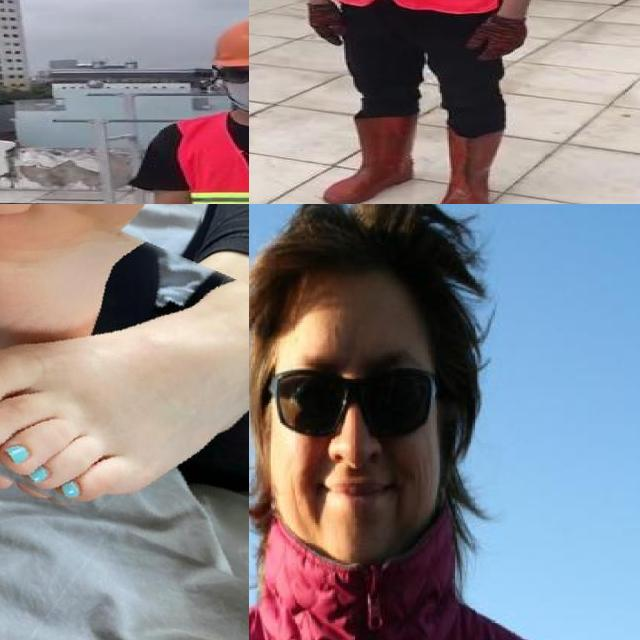Barefoots: (0, 269, 249, 517), (0, 204, 163, 412)
boots: (322, 116, 420, 204), (436, 130, 505, 204)
face_mask: (214, 63, 249, 112)
face_nomask: (265, 367, 441, 525)
glasses: (266, 354, 445, 450), (211, 62, 249, 88)
hand_glove: (463, 16, 527, 60), (305, 1, 346, 48)
head_helmet: (210, 15, 249, 69)
head_nohelmet: (249, 204, 486, 325)
person: (249, 204, 623, 640), (298, 0, 567, 204), (137, 11, 249, 204)
vest: (182, 111, 249, 204)
